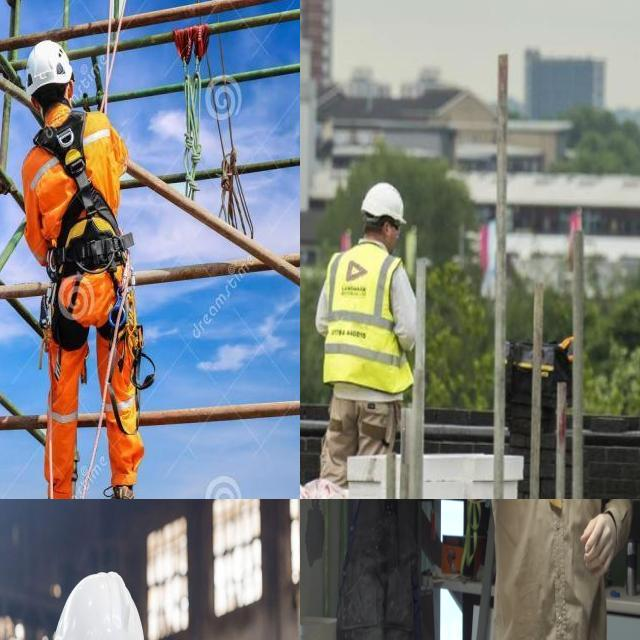Harness: (34, 111, 123, 246), (68, 246, 123, 272)
head_helmet: (359, 181, 411, 226)
person: (319, 181, 412, 469)
vest: (324, 244, 416, 394)
